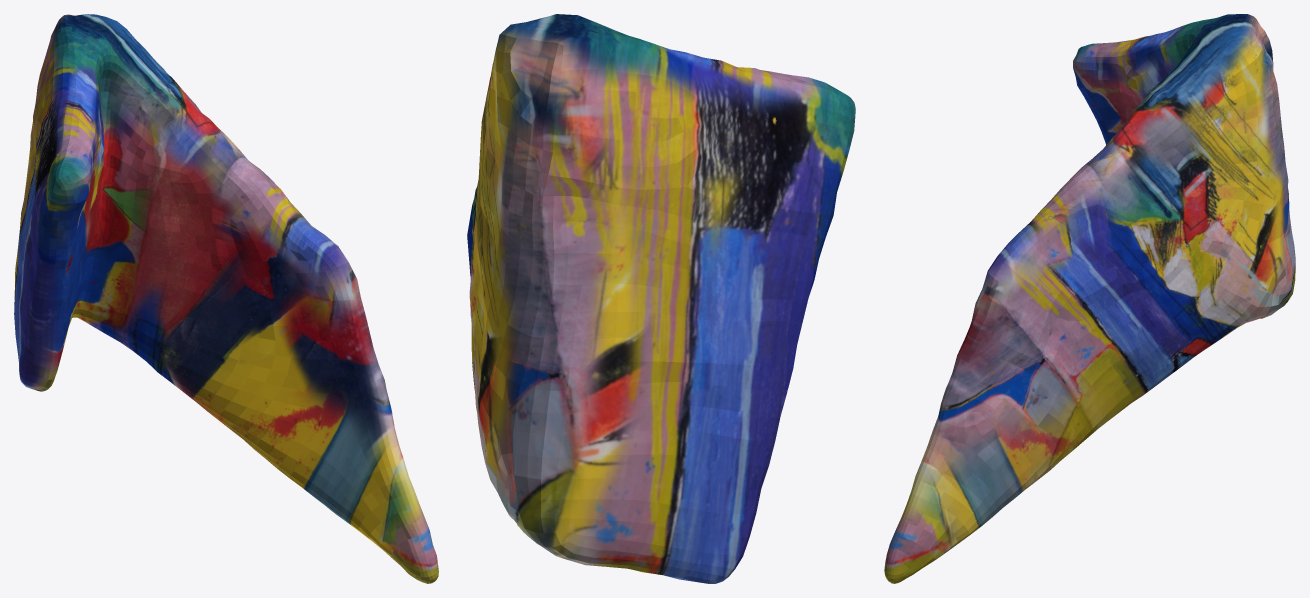
3 renders of one model, left to right at view 1: azimuth 30°, elevation 25°; view 2: azimuth 150°, elevation 25°; view 3: azimuth 270°, elevation 25°, orthographic. The views are drawn at different scales.
Parts seen in each view (by area): view 1: Group53592; view 2: Group53592; view 3: Group53592.
Part boxes in pixels (x1,y1,x2,y2): Group53592: [14, 14, 438, 583]; Group53592: [467, 14, 855, 583]; Group53592: [884, 14, 1295, 583].
Bounding box in the file's own units: 1.63 × 2.61 × 2.03.
1 material, 1 textured.
